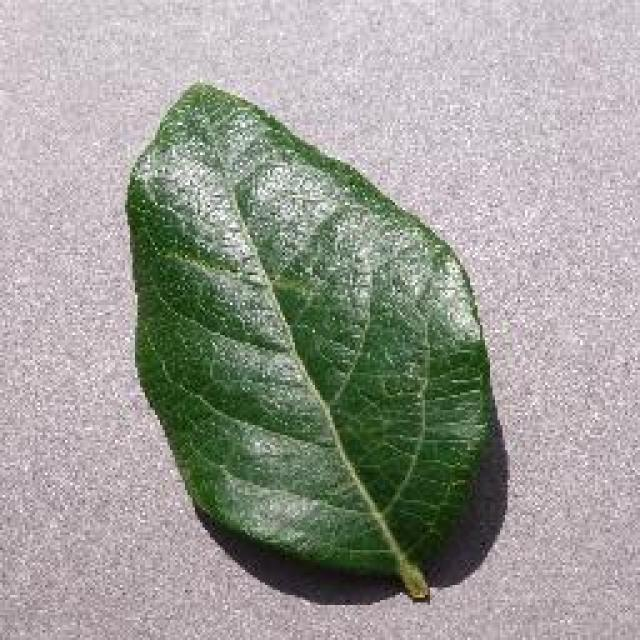Blu_healthy: (142, 109, 498, 520)
